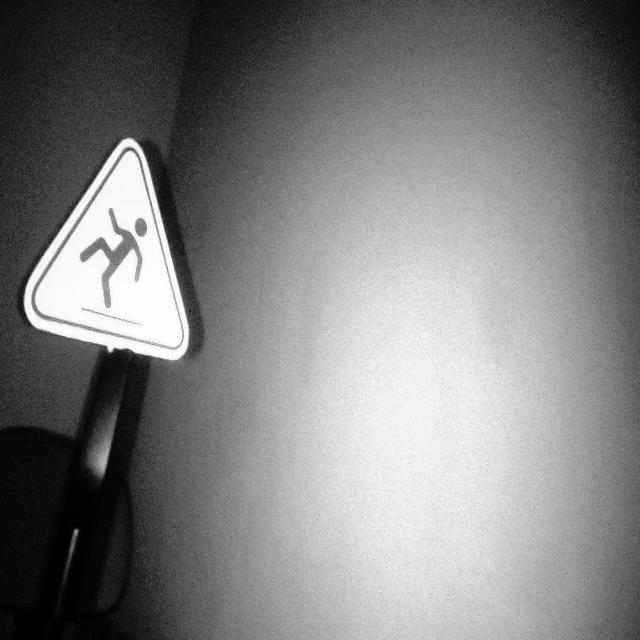Sign: (22, 134, 192, 364)
